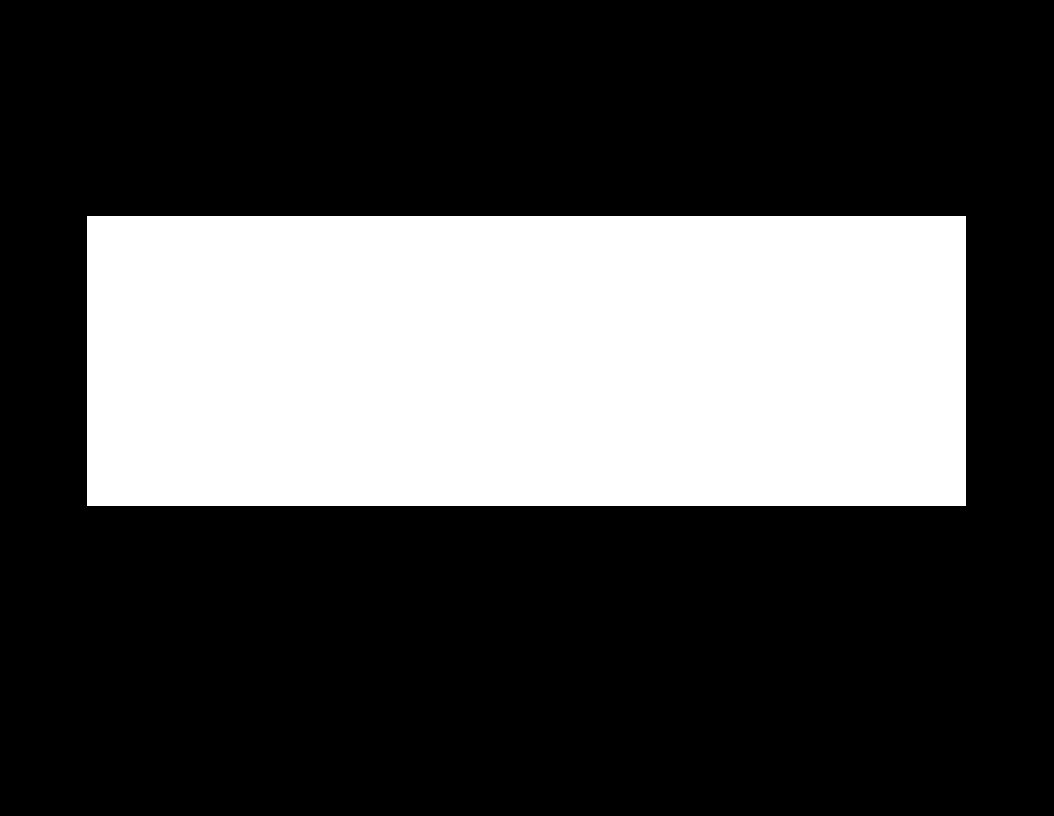table: (87, 216, 965, 505)
